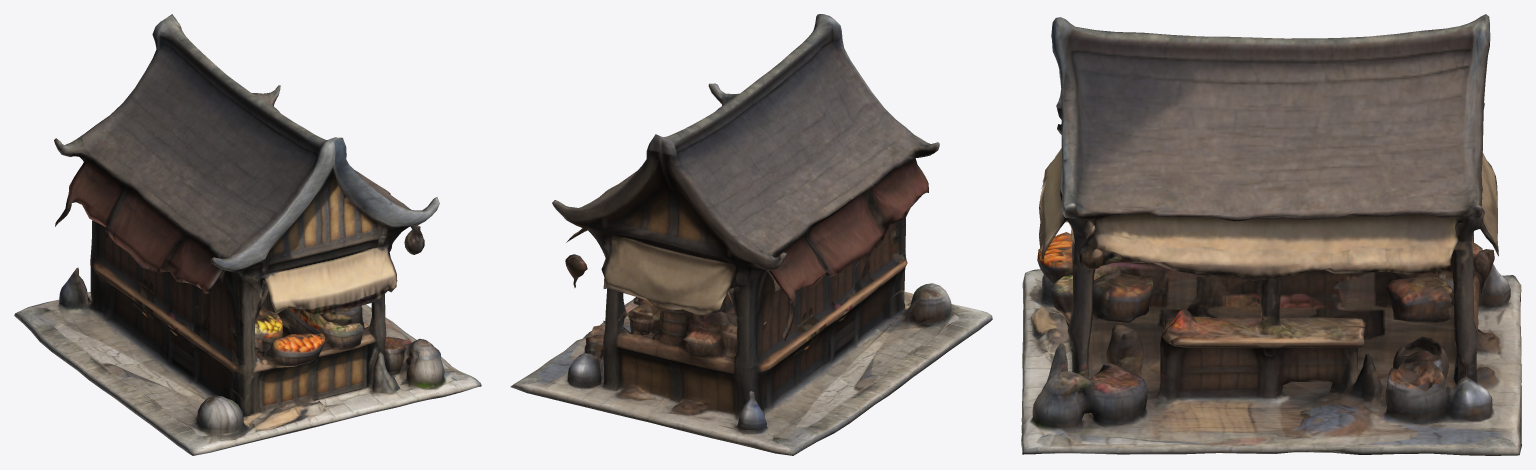
The model's file is Meshy_AI_Fantasy_Medieval_mark_0902010950_texture.fbx.
The picture shows the model from 3 angles, left to right: view 1: azimuth 30°, elevation 25°; view 2: azimuth 150°, elevation 25°; view 3: azimuth 270°, elevation 25°; orthographic projection. The views are drawn at different scales.
Visible parts, largest first — view 1: Mesh1_Mesh1.008; view 2: Mesh1_Mesh1.008; view 3: Mesh1_Mesh1.008.
Boxes of the visible parts, x1,y1,x2,y2 form: Mesh1_Mesh1.008: (14,14,481,455); Mesh1_Mesh1.008: (510,14,992,455); Mesh1_Mesh1.008: (1021,14,1521,455).
Size of the model in its own units: 172 by 156 by 198.
Materials: 1 (1 with a texture image).
